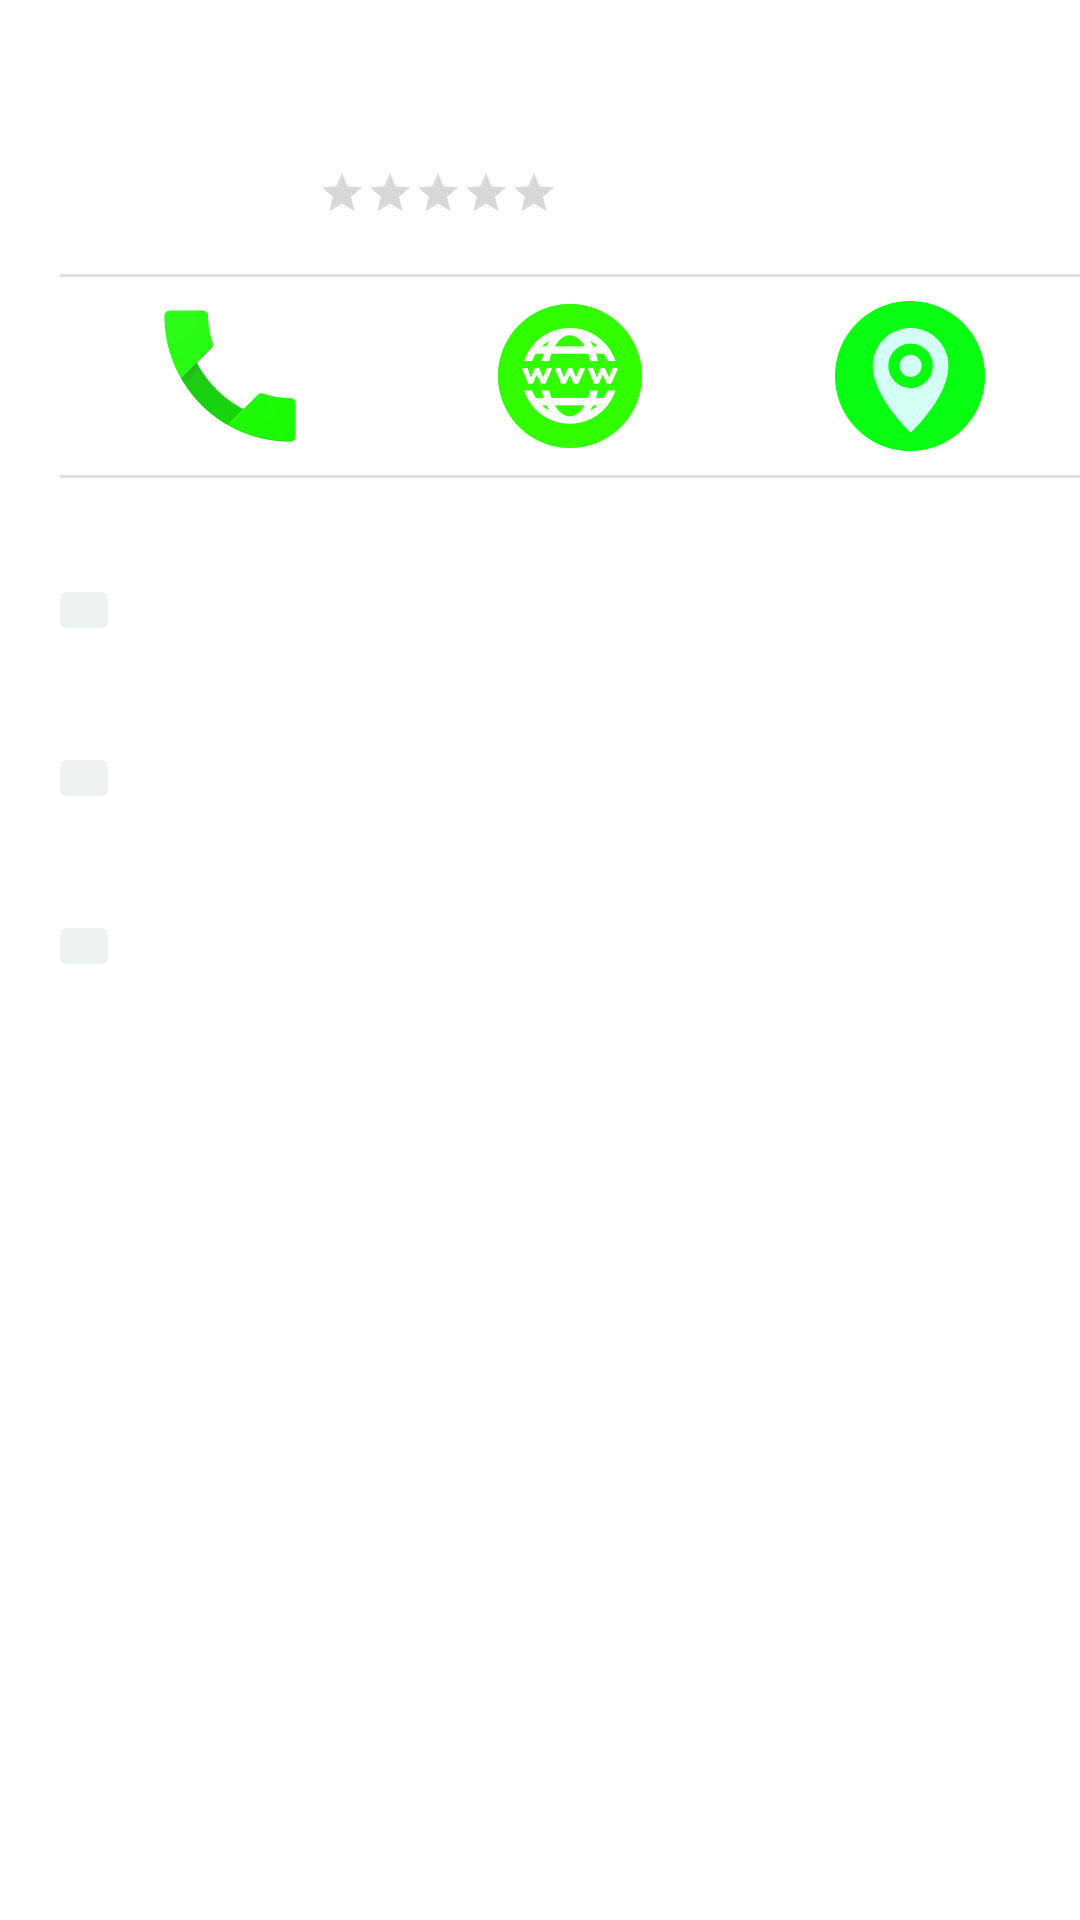

Point at icon controls on the screen. Image size 1080px×1920px, points as [x,y].
call: [230,376]
destination: [910,376]
website: [570,376]
